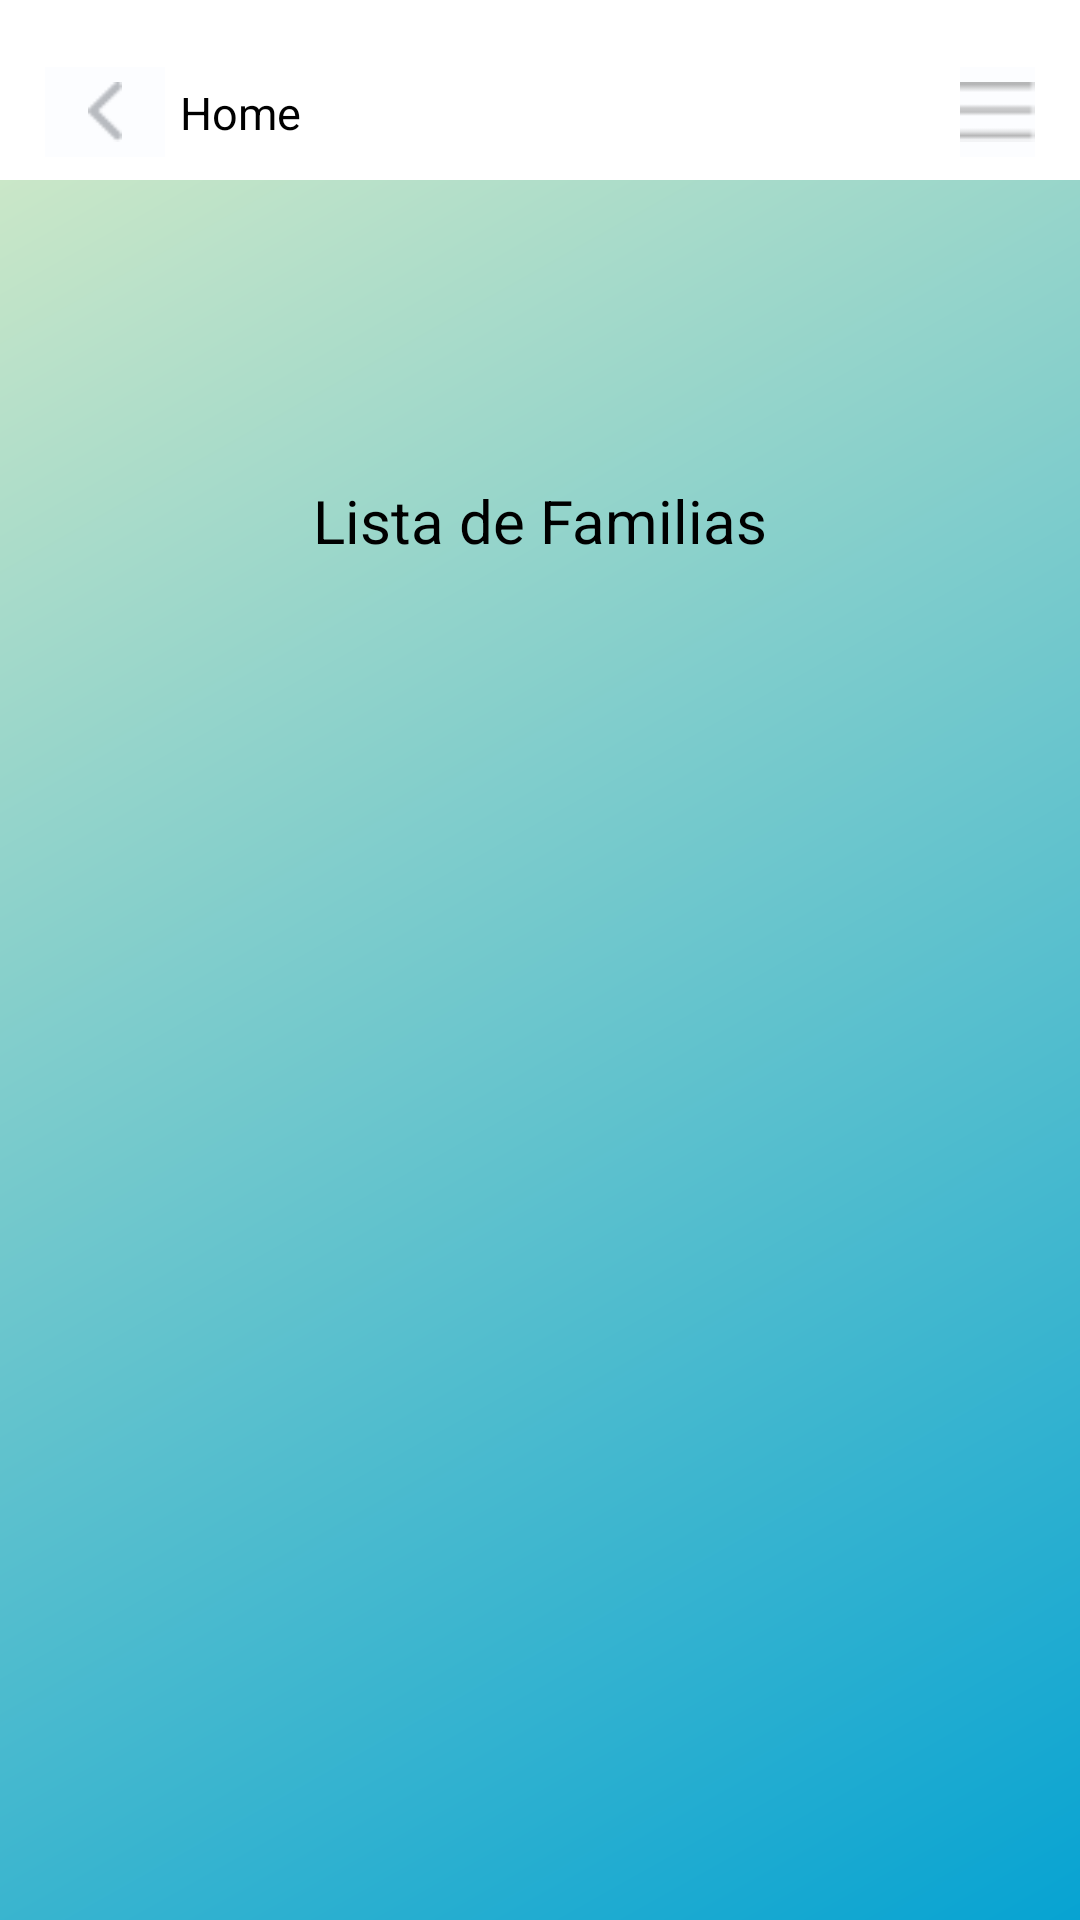

Screen size 1080×1920. Icon name, then its box in pixels as (x1, y1, x2, y2):
arrow back: (88, 82, 122, 140)
menu: (960, 82, 1035, 139)
